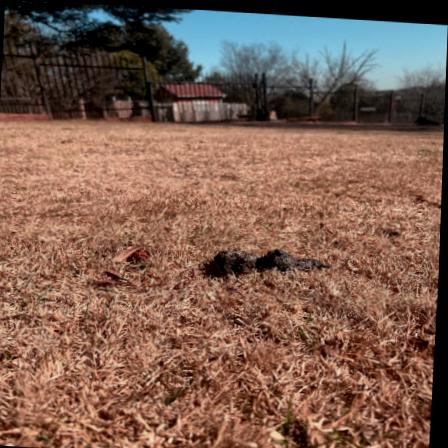dog-poop: (201, 233, 321, 285)
